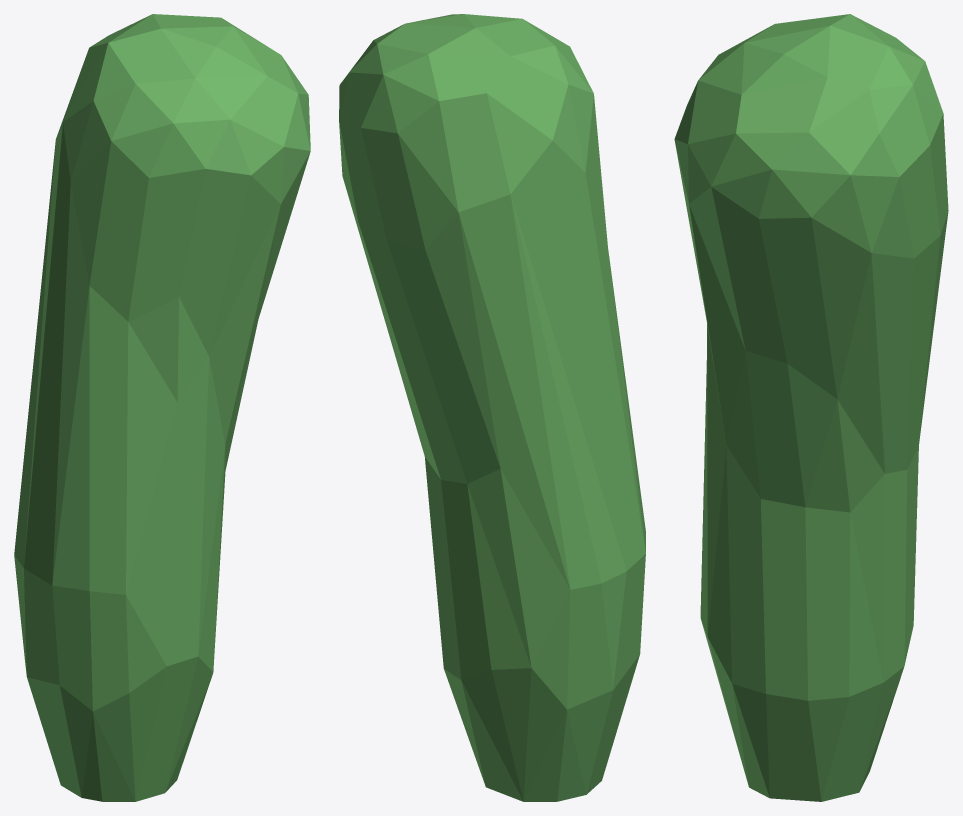
The model's file is Cactus1.fbx.
3 views of the same model, side by side, from view 1: azimuth 30°, elevation 25°; view 2: azimuth 150°, elevation 25°; view 3: azimuth 270°, elevation 25° (orthographic). The views are drawn at different scales.
Parts seen in each view (by area): view 1: Cactus1; view 2: Cactus1; view 3: Cactus1.
Part boxes in pixels (x1,y1,x2,y2): Cactus1: (14, 14, 310, 801); Cactus1: (339, 14, 645, 801); Cactus1: (674, 14, 948, 801).
Bounding box in the file's own units: 0.4935 × 1.27 × 0.4053.
